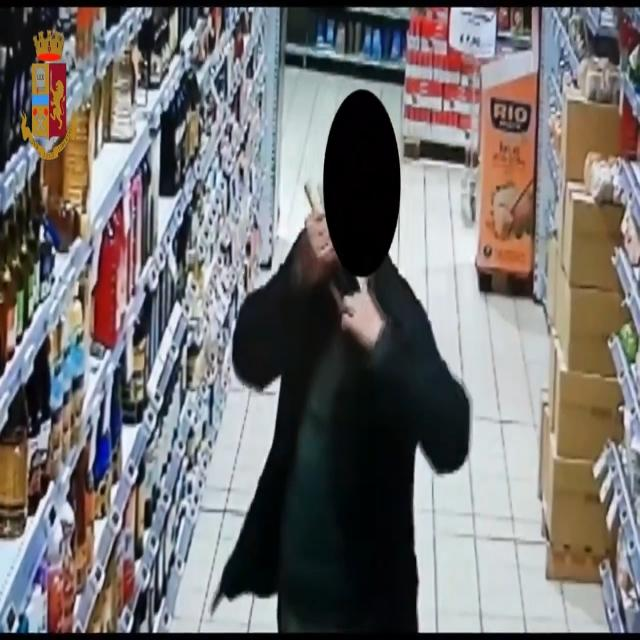persone: (236, 161, 442, 622)
